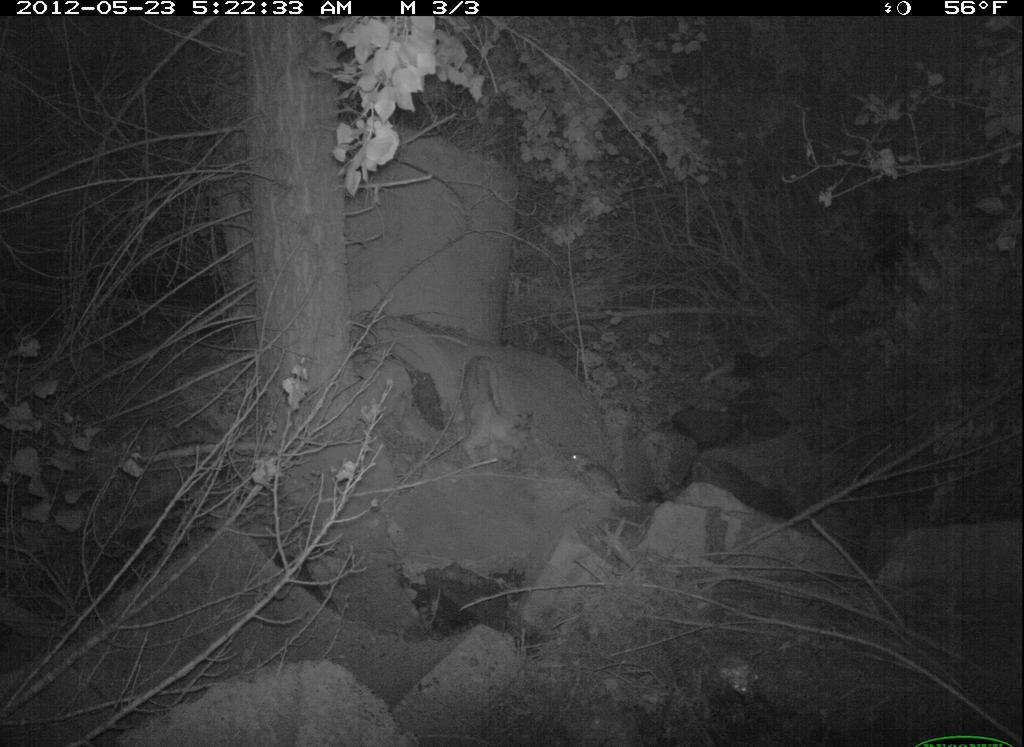bobcat: (455, 349, 533, 473)
